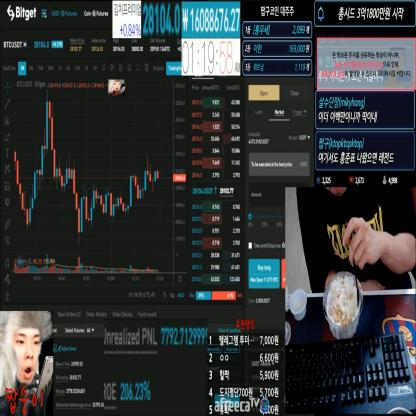streamer: (297, 187, 416, 293)
